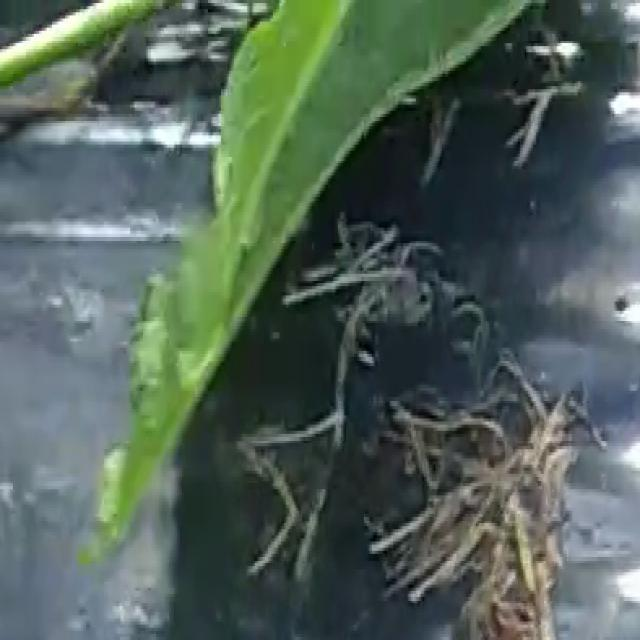organic waste: (76, 0, 508, 560)
